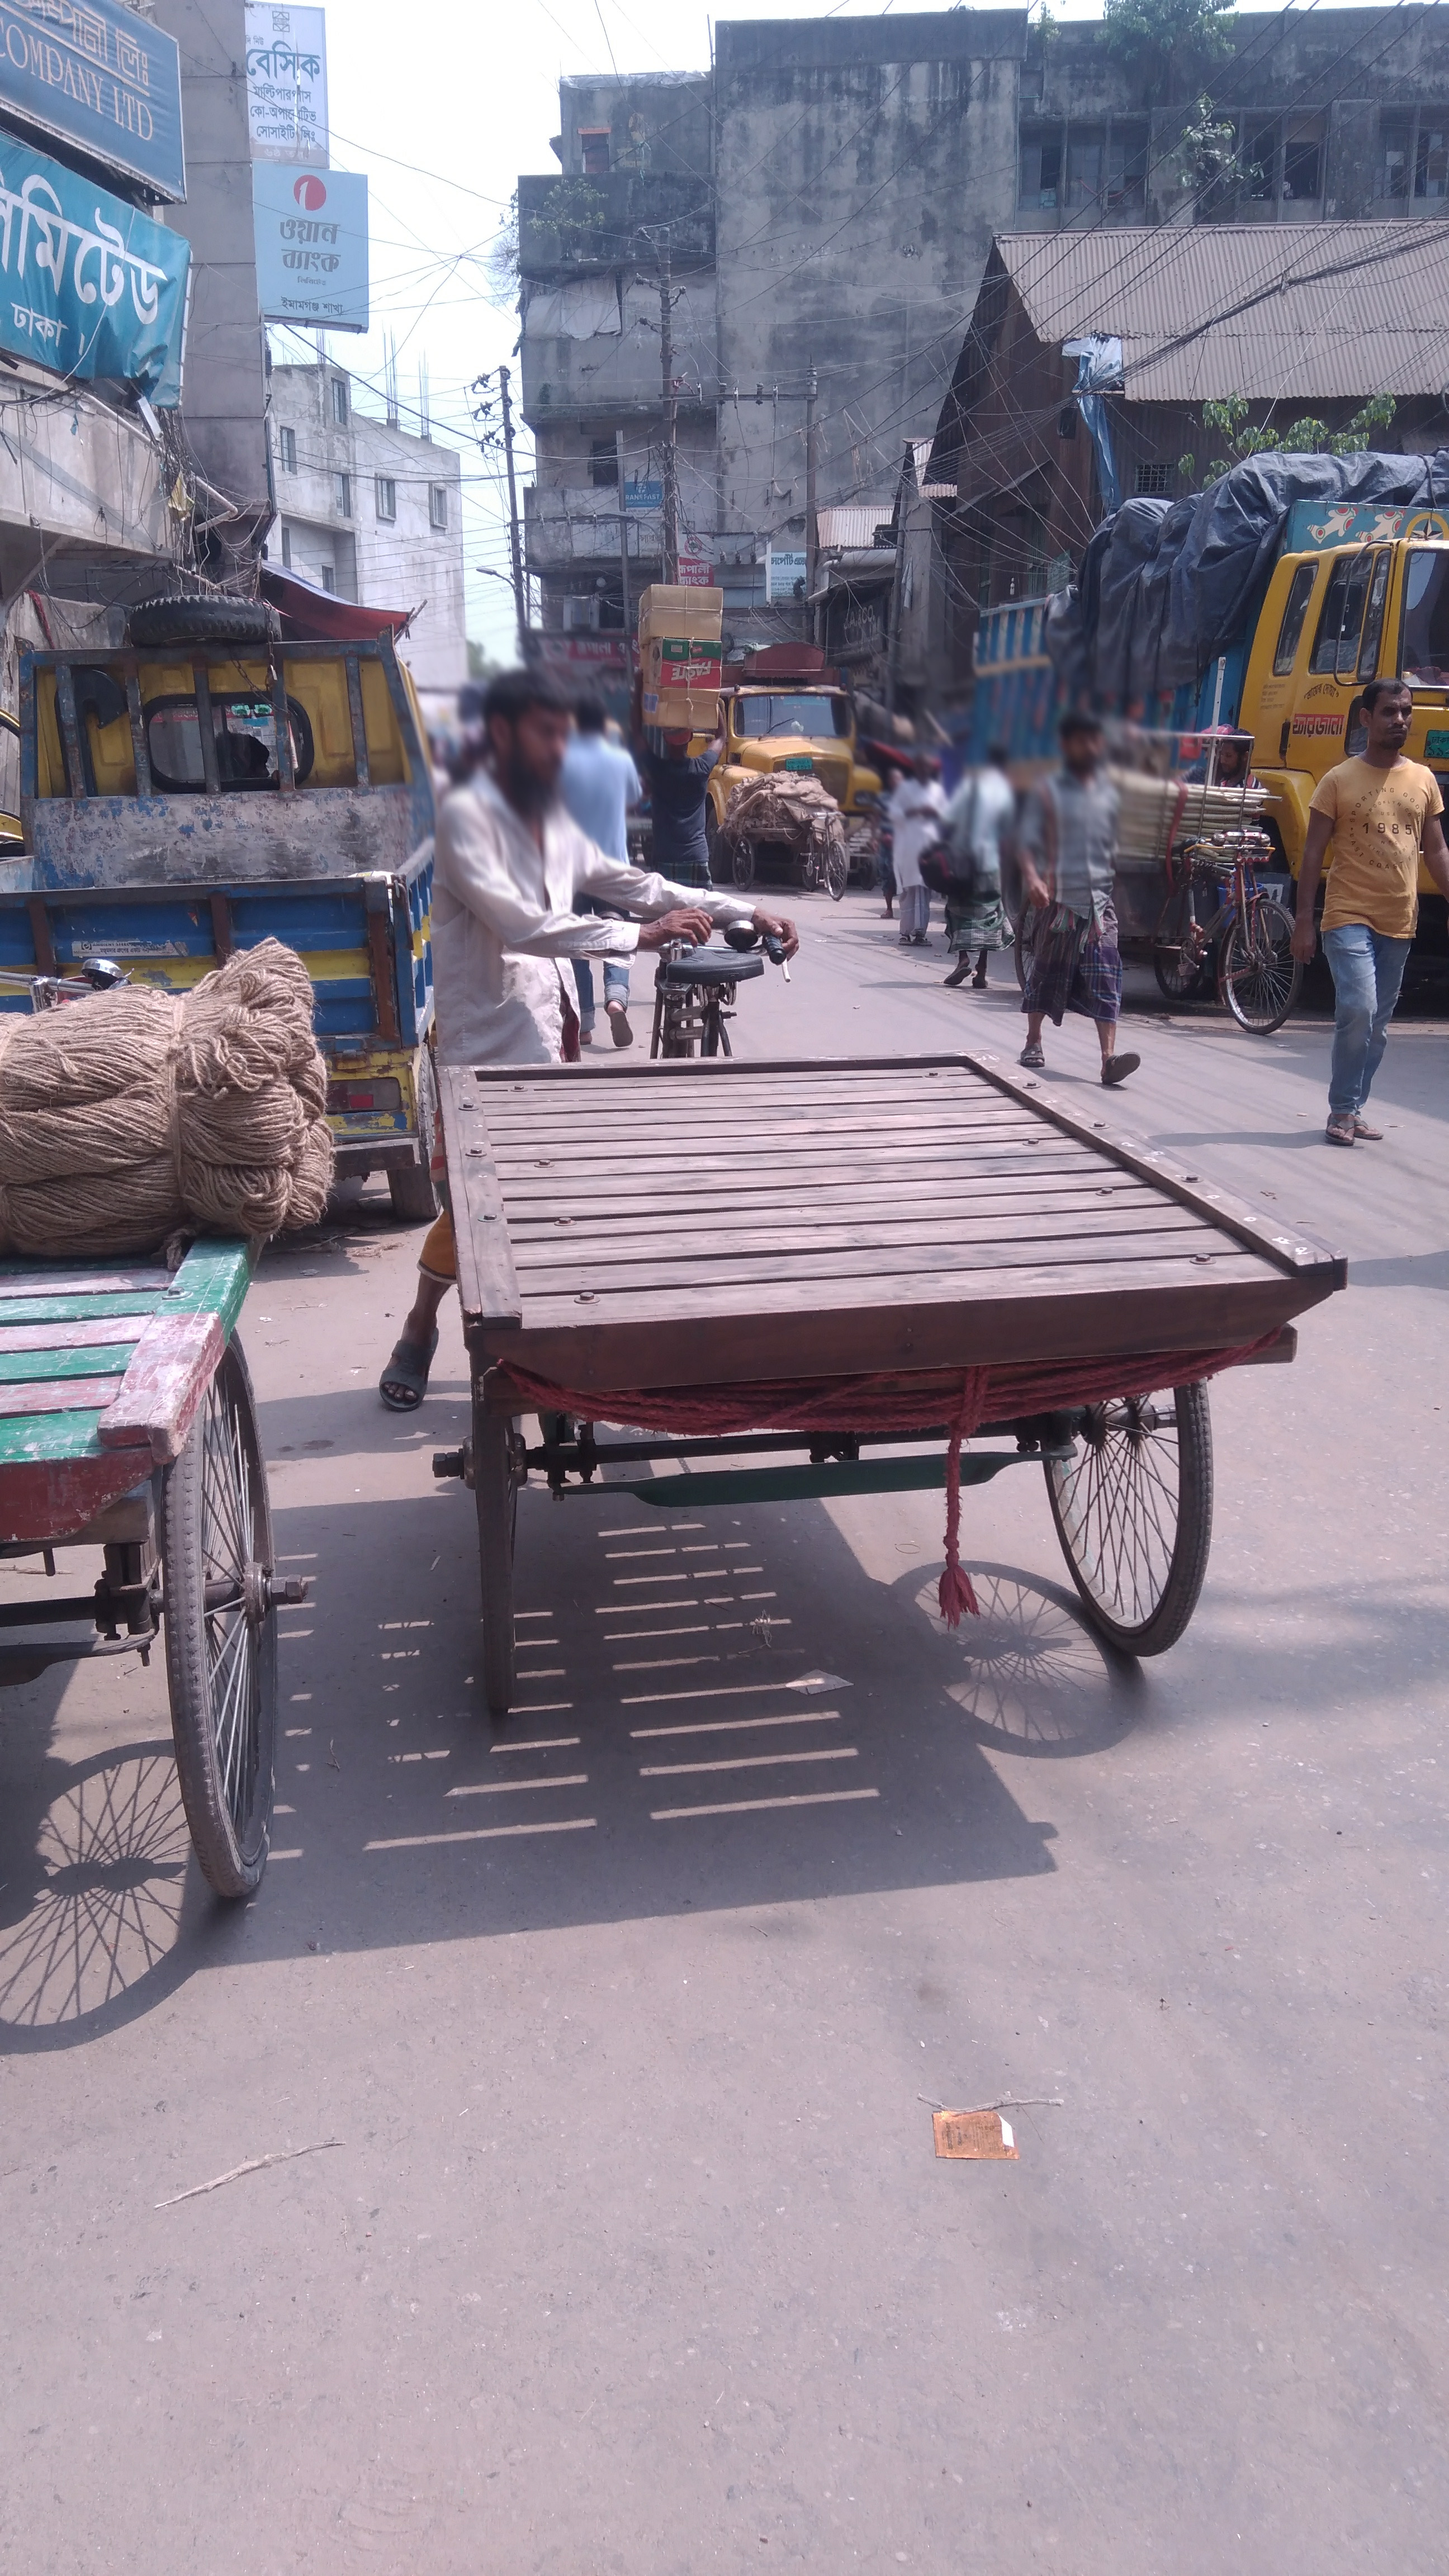truck: (0, 623, 437, 1230), (964, 508, 1449, 959), (701, 683, 901, 842)
van: (433, 918, 1355, 1725), (0, 1238, 313, 1916), (1024, 835, 1304, 1035)
